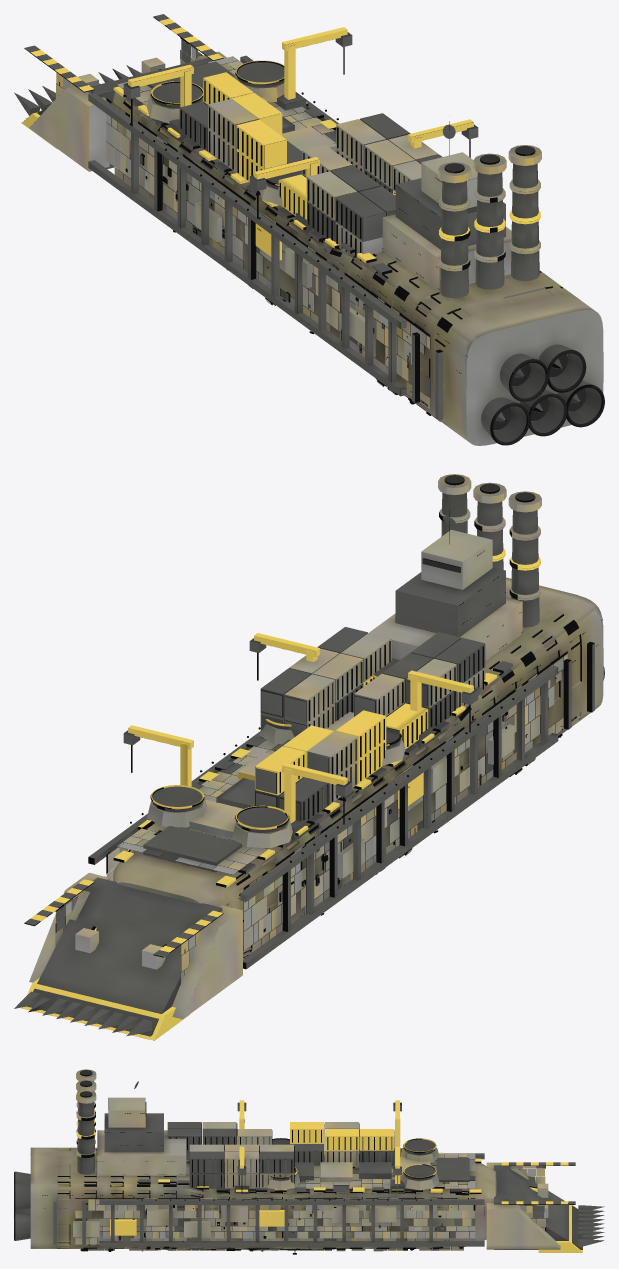
The model's file is human_breaker_hero.glb.
3 views of the same model, one above another, from view 1: azimuth 30°, elevation 25°; view 2: azimuth 150°, elevation 25°; view 3: azimuth 270°, elevation 25° (orthographic). The views are drawn at different scales.
Visible parts, largest first — view 1: HullBaked; view 2: HullBaked; view 3: HullBaked.
Boxes of the visible parts, x1,y1,x2,y2 form: HullBaked: [14, 14, 604, 445]; HullBaked: [14, 474, 604, 1040]; HullBaked: [14, 1069, 604, 1254].
Size of the model in its own units: 284 by 320 by 1063.
1 material, 1 textured.
